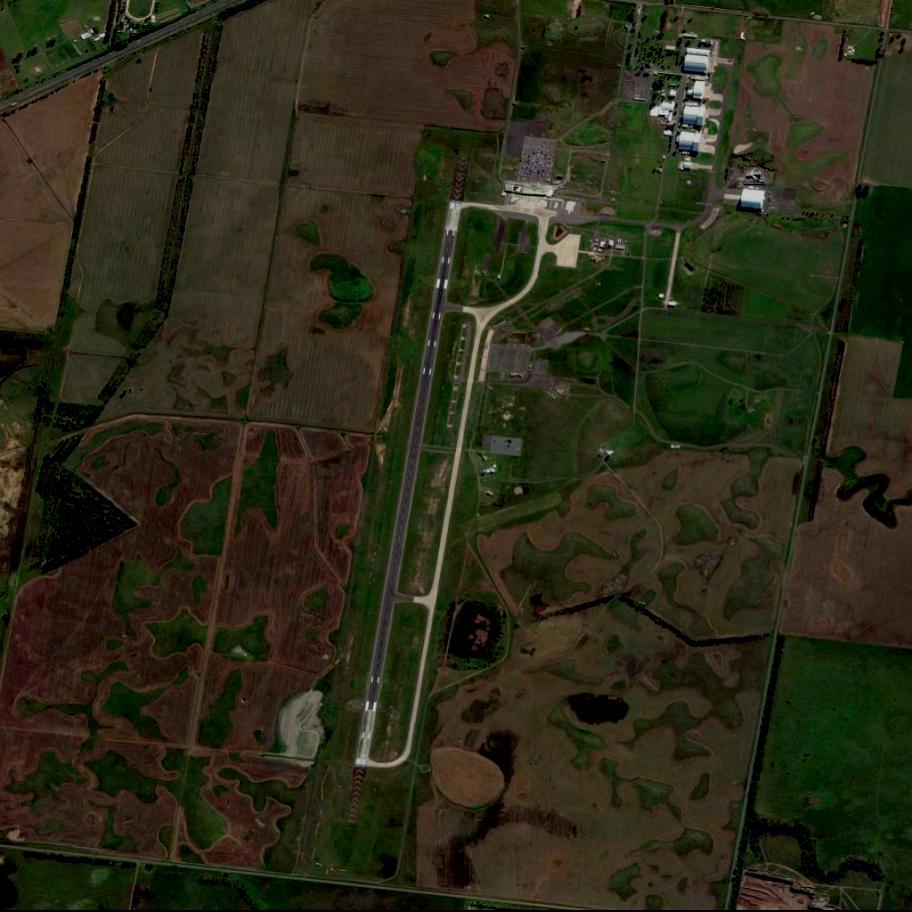plane: (745, 167, 765, 186)
